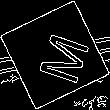M_W: (23, 25, 87, 85)
